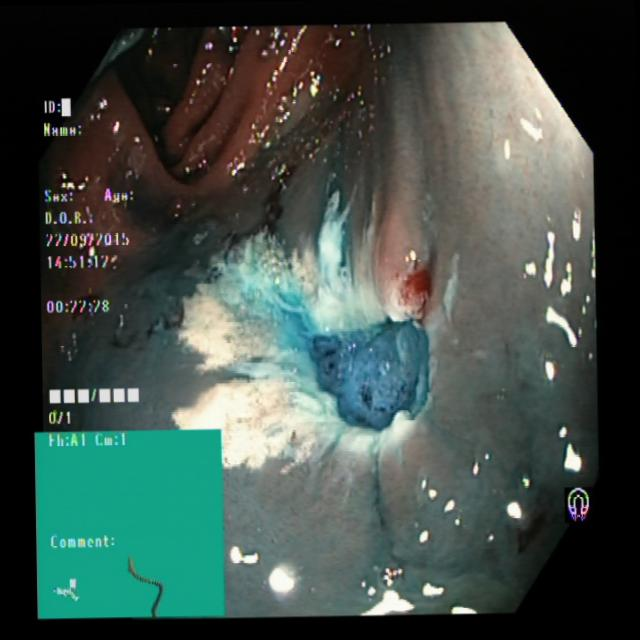dyed-resection-margins: (176, 165, 465, 493)
